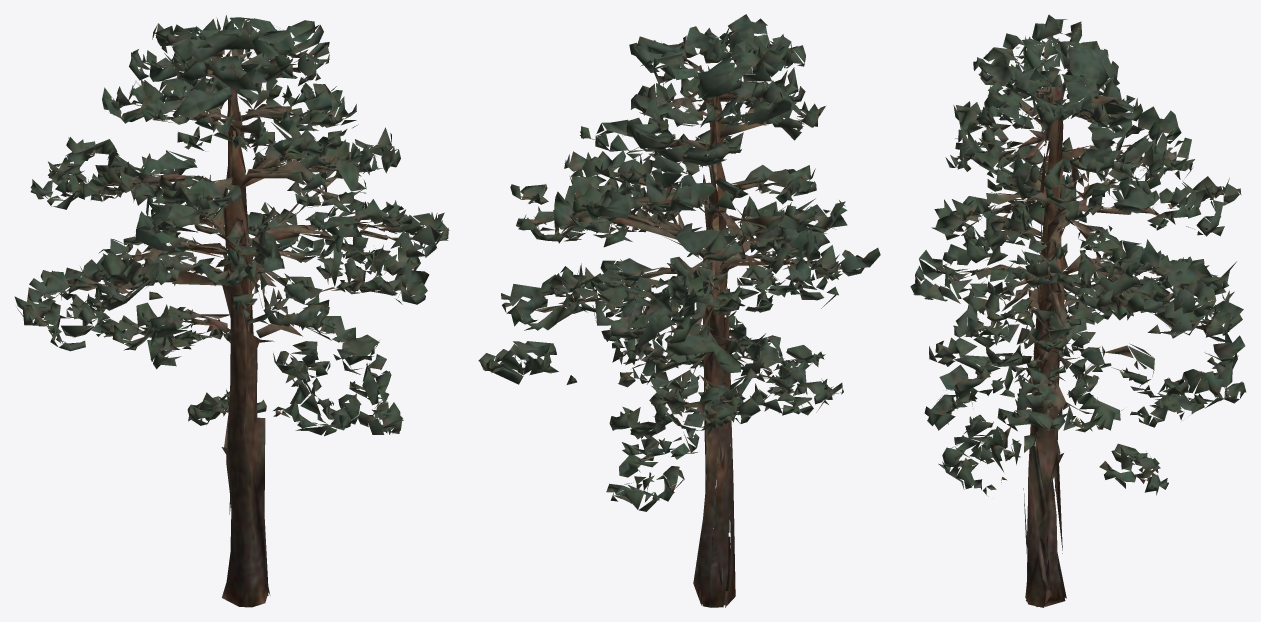
The model's file is wald_kiefer.glb.
3 renders of one model, left to right at view 1: azimuth 30°, elevation 25°; view 2: azimuth 150°, elevation 25°; view 3: azimuth 270°, elevation 25°, orthographic. The views are drawn at different scales.
Parts seen in each view (by area): view 1: Prop; view 2: Prop; view 3: Prop.
Boxes of the visible parts, box(x1,y1,x2,y2) form: Prop: box(14, 15, 449, 607); Prop: box(478, 14, 880, 607); Prop: box(910, 14, 1246, 607).
Size of the model in its own units: 0.6562 by 1 by 0.5551.
Materials: 1 (1 with a texture image).
